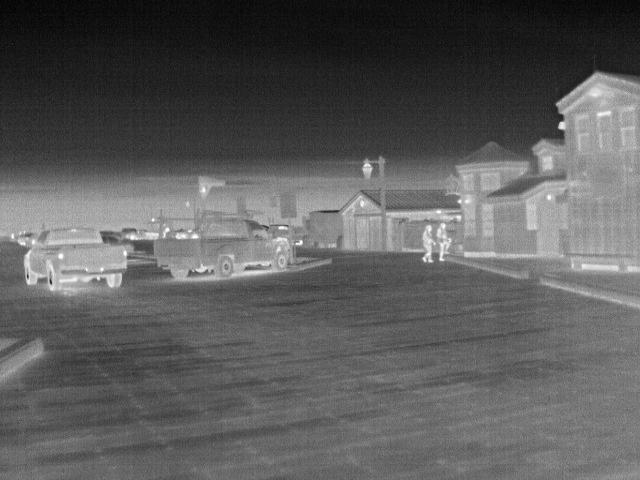car: (157, 215, 292, 281), (24, 225, 131, 293), (102, 236, 134, 256)
person: (420, 222, 439, 266), (436, 221, 454, 259)
